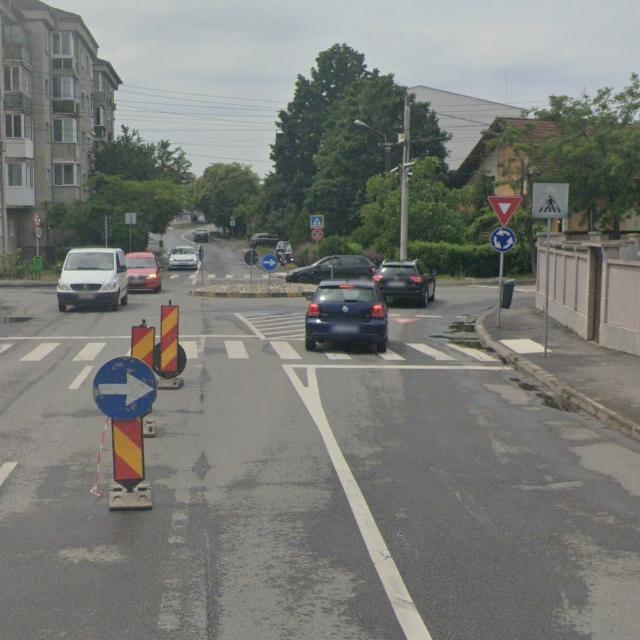info_crosswalk: (531, 181, 570, 219), (311, 215, 324, 228)
prio_give_way: (488, 195, 524, 228)
